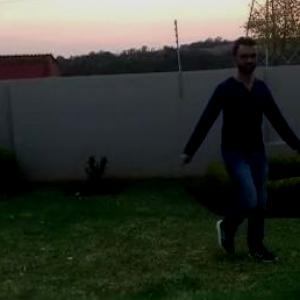land: (166, 36, 300, 265)
